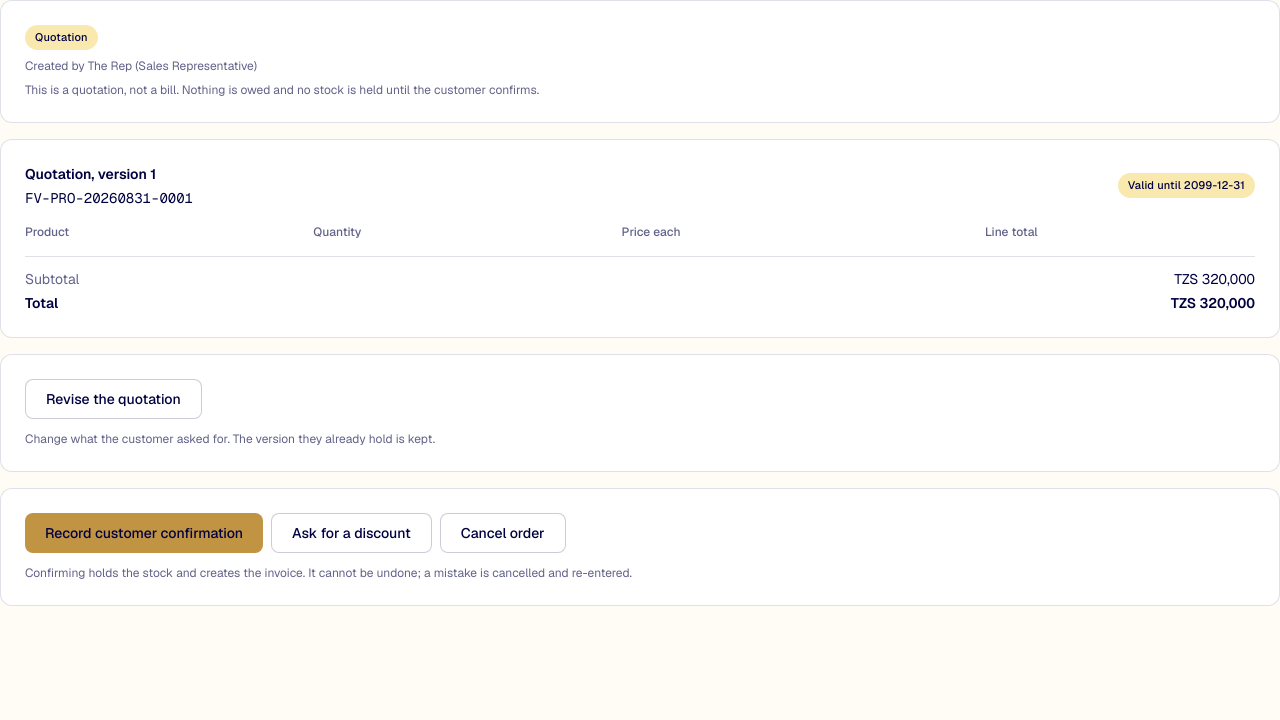
it: a refused confirmation › reports the refusal inside the sheet, not on the card behind it
What coordinates should you click on to do the following:
click the button "Record customer confirmation"
I would click on:
 (144, 532)
Its box is [25,512,263,552].
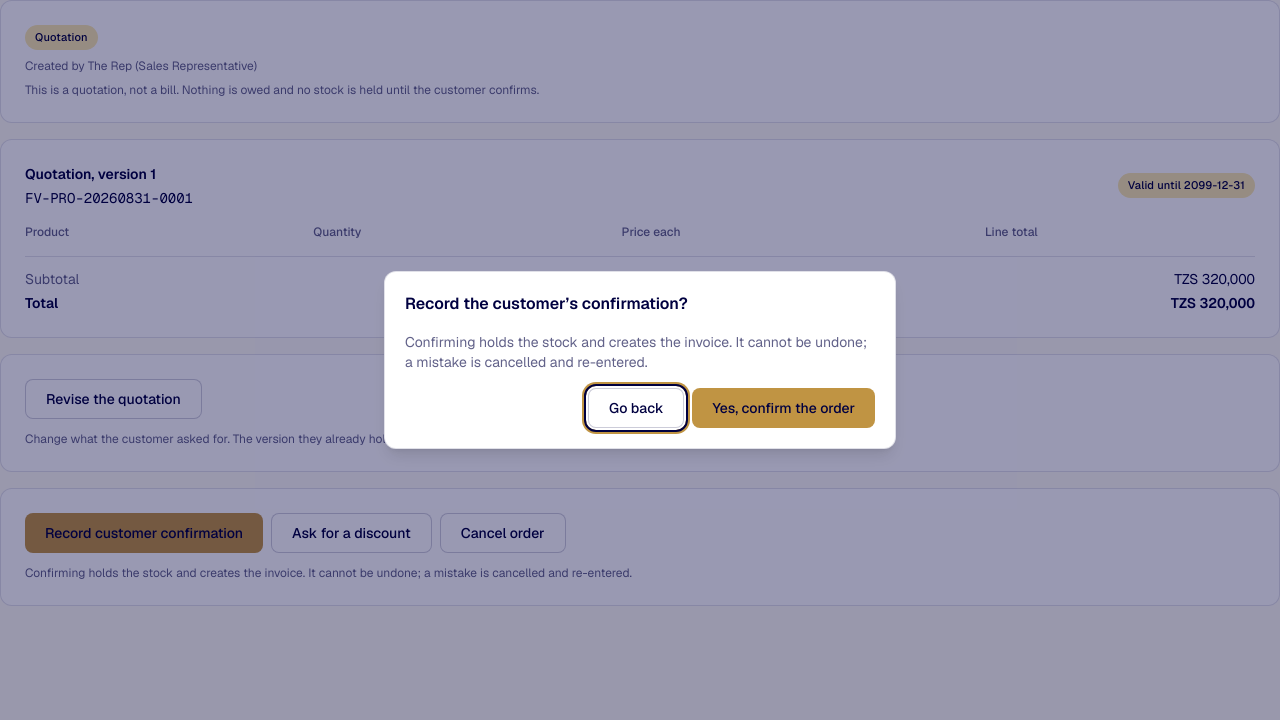
What coordinates should you click on to do the following:
click the button "Yes, confirm the order"
I would click on:
 (784, 408)
Its box is [692,388,875,428].
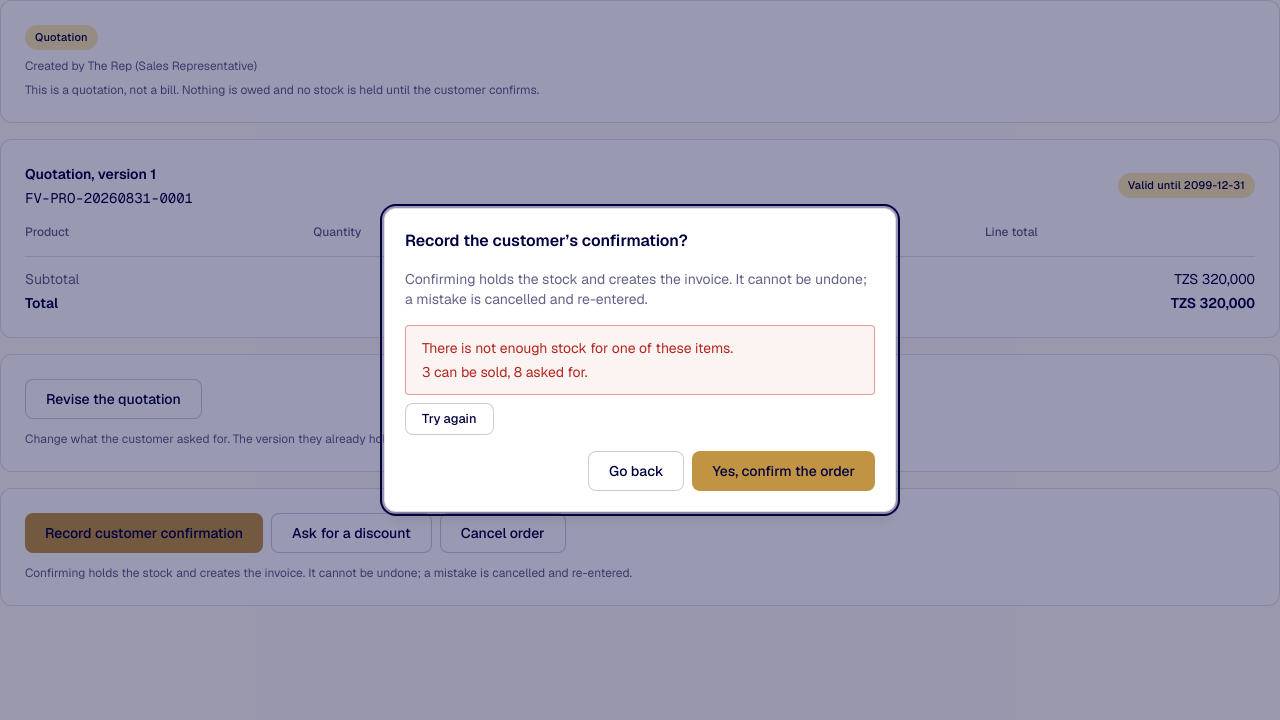
Now the dialog is shown, box [384,208,896,512]
Now the message shows "There is not enough stock", box [422,339,733,357]
Now the message shows "3 can be sold, 8 asked for", box [422,363,588,381]
